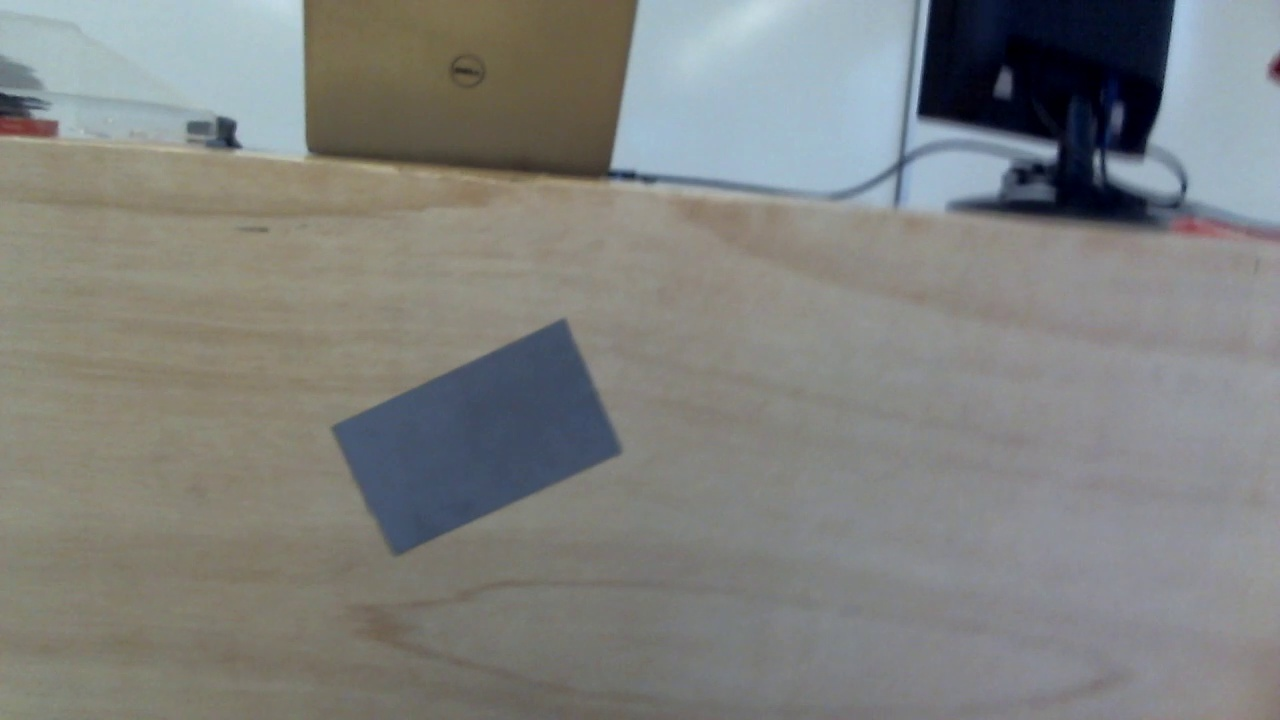Tape: (330, 316, 630, 557)
